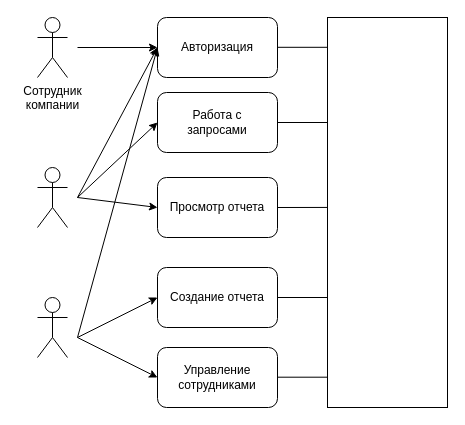
The diagram is 465 pixels wide and 425 high, and some of its shapes have lost their labels. The shapes that lost their labels are listed below. From the top down, each one's centre as x and y in pixels, then its label:
point 52,197: Руководство компании
point 387,212: Информационная система
point 52,327: Админ
